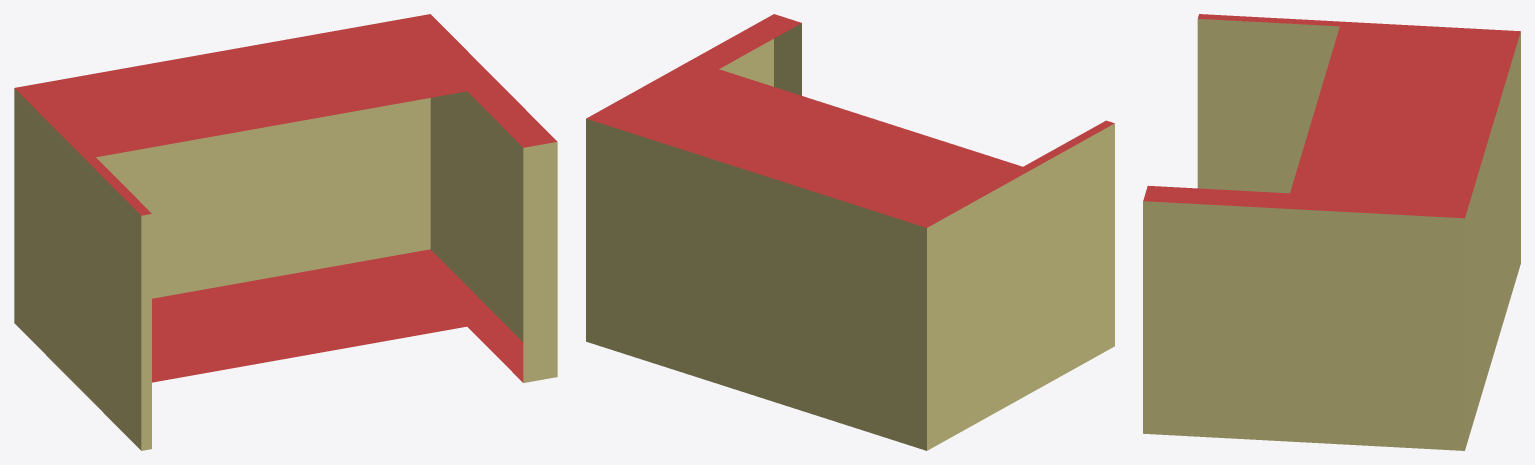
The picture shows the model from 3 angles, left to right: view 1: azimuth 30°, elevation 25°; view 2: azimuth 150°, elevation 25°; view 3: azimuth 270°, elevation 25°; orthographic projection. The views are drawn at different scales.
Size of the model in its own units: 9.88 by 7.72 by 5.25.
